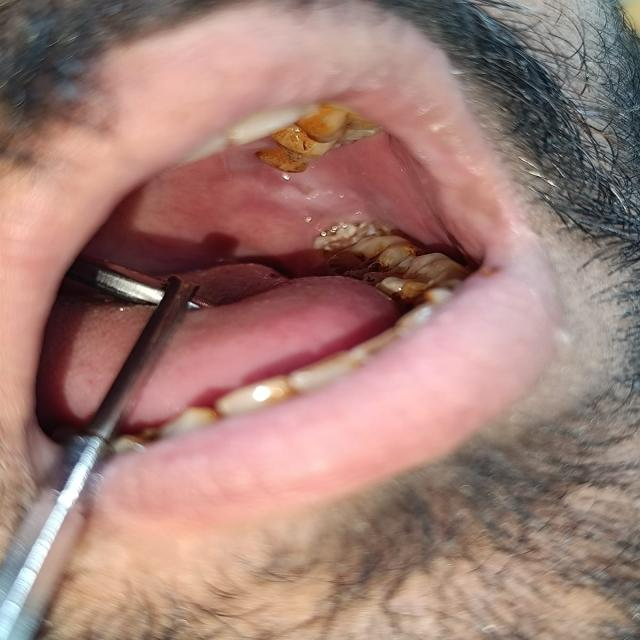leukoplakia-like-detection: (241, 164, 394, 233)
processing_area: (118, 130, 466, 423)
